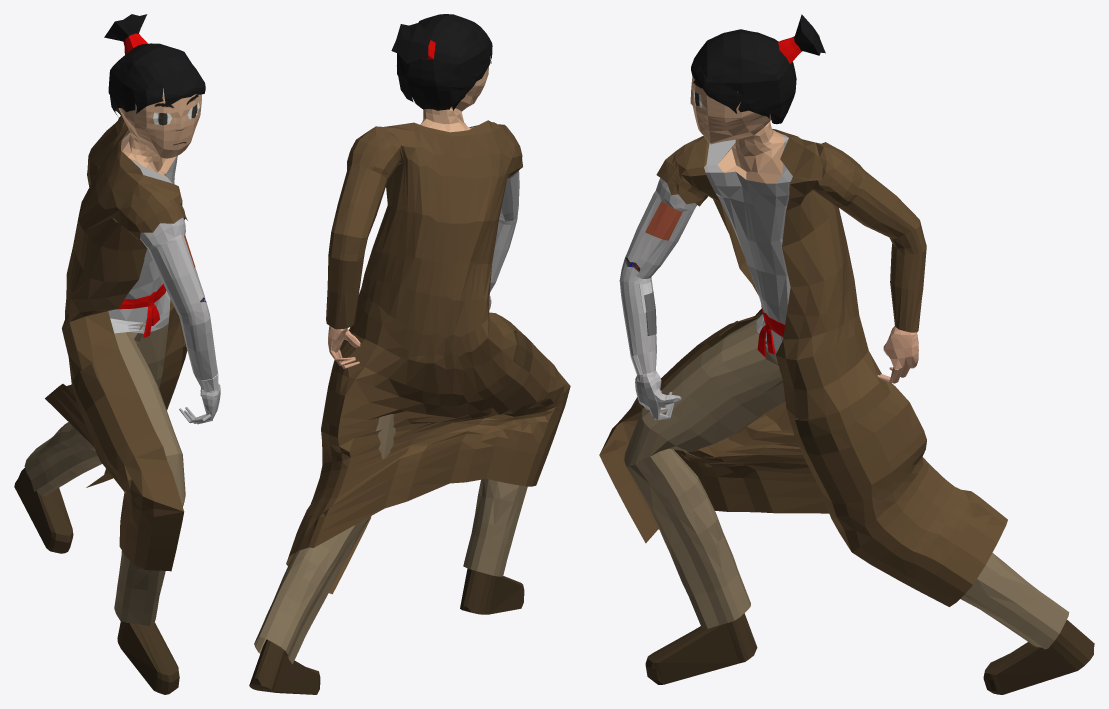
The model's file is OneAnimationTest_000018.obj.
3 renders of one model, left to right at view 1: azimuth 30°, elevation 25°; view 2: azimuth 150°, elevation 25°; view 3: azimuth 270°, elevation 25°, orthographic. The views are drawn at different scales.
Parts seen in each view (by area): view 1: Jacket_Cube, Body_Cube.003, Hair_Cube.004; view 2: Jacket_Cube, Body_Cube.003, Hair_Cube.004; view 3: Jacket_Cube, Body_Cube.003, Hair_Cube.004.
Boxes of the visible parts, bbox=[...] form: Jacket_Cube: bbox=[45, 116, 187, 571]; Body_Cube.003: bbox=[14, 88, 220, 694]; Hair_Cube.004: bbox=[104, 14, 205, 117]; Jacket_Cube: bbox=[286, 120, 570, 594]; Body_Cube.003: bbox=[249, 66, 527, 694]; Hair_Cube.004: bbox=[391, 14, 492, 110]; Jacket_Cube: bbox=[599, 129, 1007, 606]; Body_Cube.003: bbox=[619, 76, 1094, 694]; Hair_Cube.004: bbox=[691, 14, 825, 124].
Size of the model in its own units: 0.8943 by 3.63 by 2.4.
